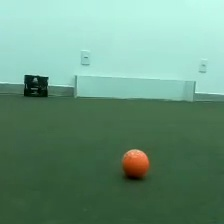ball: (119, 147, 152, 181)
goal: (71, 72, 198, 104)
robot: (21, 73, 49, 98)
